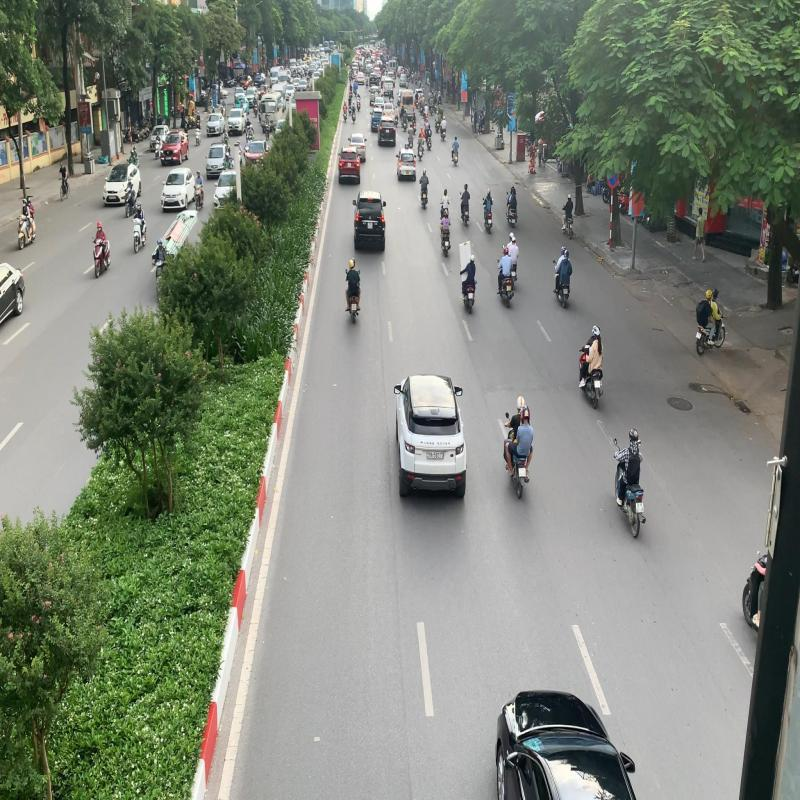helmet: (520, 405, 530, 423), (628, 427, 638, 442), (517, 396, 525, 410)
licenseplate: (636, 502, 644, 513), (518, 466, 526, 477)
motorcyclist: (613, 428, 647, 539), (504, 395, 535, 498)
